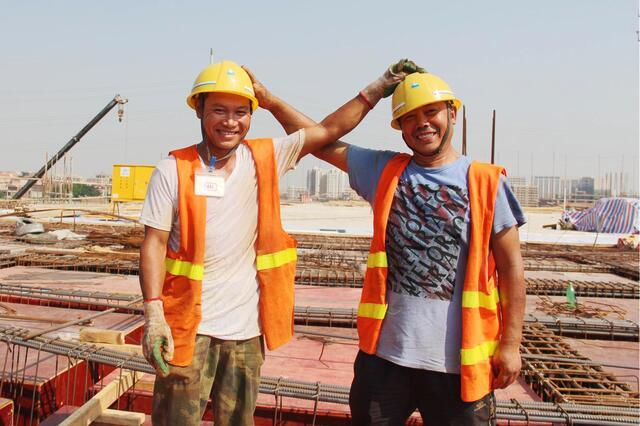helmet: (389, 71, 465, 131), (185, 59, 259, 110)
